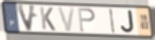I: (109, 8, 116, 35)
J: (120, 9, 135, 34)
K: (39, 6, 57, 32)
P: (77, 7, 96, 33)
V: (16, 4, 37, 33), (56, 6, 76, 33)
